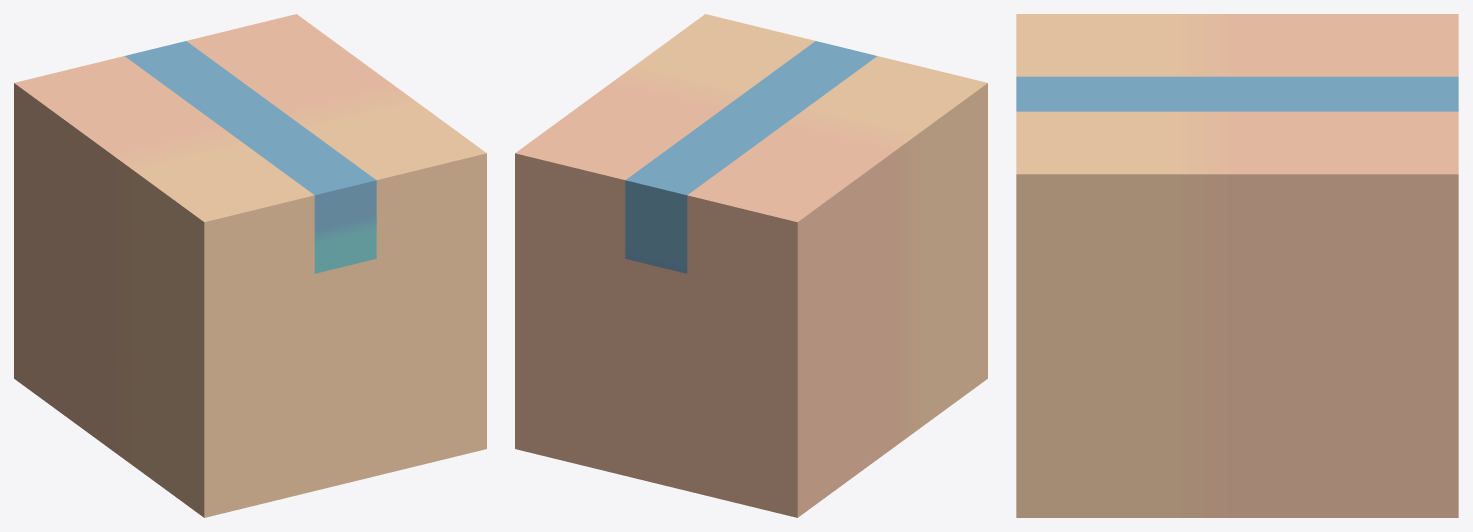
The model's file is Brown_Box.fbx.
3 renders of one model, left to right at view 1: azimuth 30°, elevation 25°; view 2: azimuth 150°, elevation 25°; view 3: azimuth 270°, elevation 25°, orthographic. The views are drawn at different scales.
Visible parts, largest first — view 1: Brown_Box; view 2: Brown_Box; view 3: Brown_Box.
Part boxes in pixels (x1,y1,x2,y2): Brown_Box: [14, 14, 486, 517]; Brown_Box: [515, 14, 987, 517]; Brown_Box: [1016, 14, 1458, 517].
Size of the model in its own units: 30 by 30 by 35.
